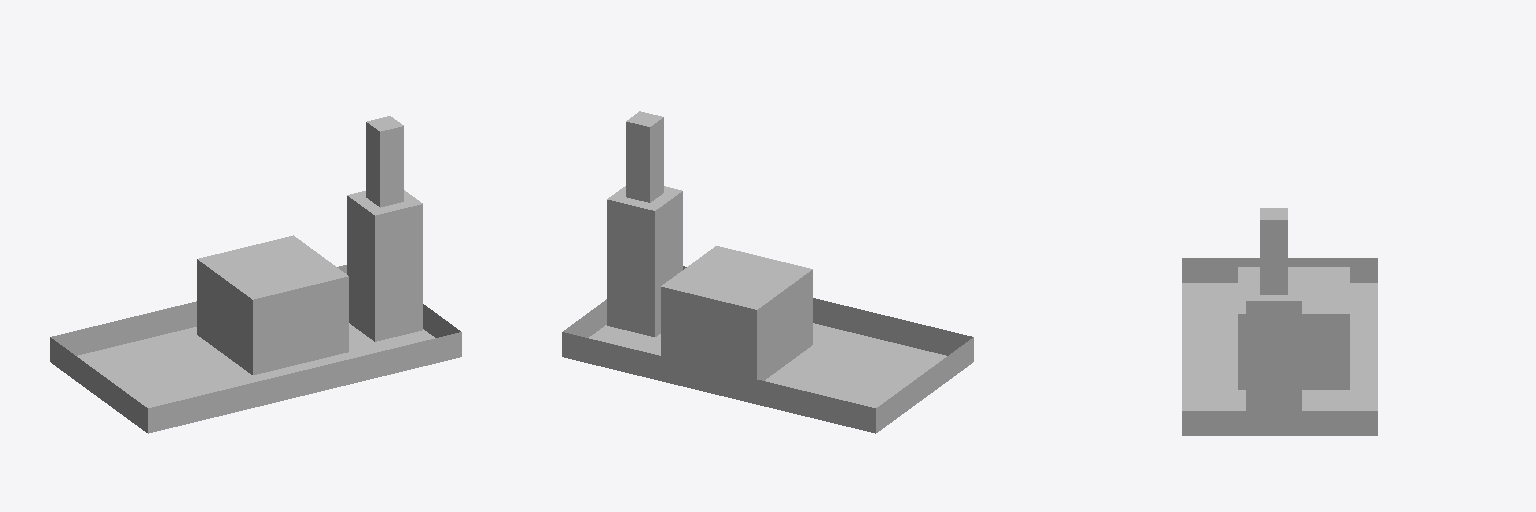
The model's file is mclanche2.obj.
The picture shows the model from 3 angles: view 1: azimuth 30°, elevation 25°; view 2: azimuth 150°, elevation 25°; view 3: azimuth 270°, elevation 25°; orthographic projection.
Parts seen in each view (by area): view 1: bone; view 2: bone; view 3: bone.
Boxes of the visible parts, <box> form: bone: <box>50,116,461,433</box>; bone: <box>562,111,973,433</box>; bone: <box>1182,208,1377,435</box>.
Size of the model in its own units: 0.8125 by 0.5131 by 0.4375.